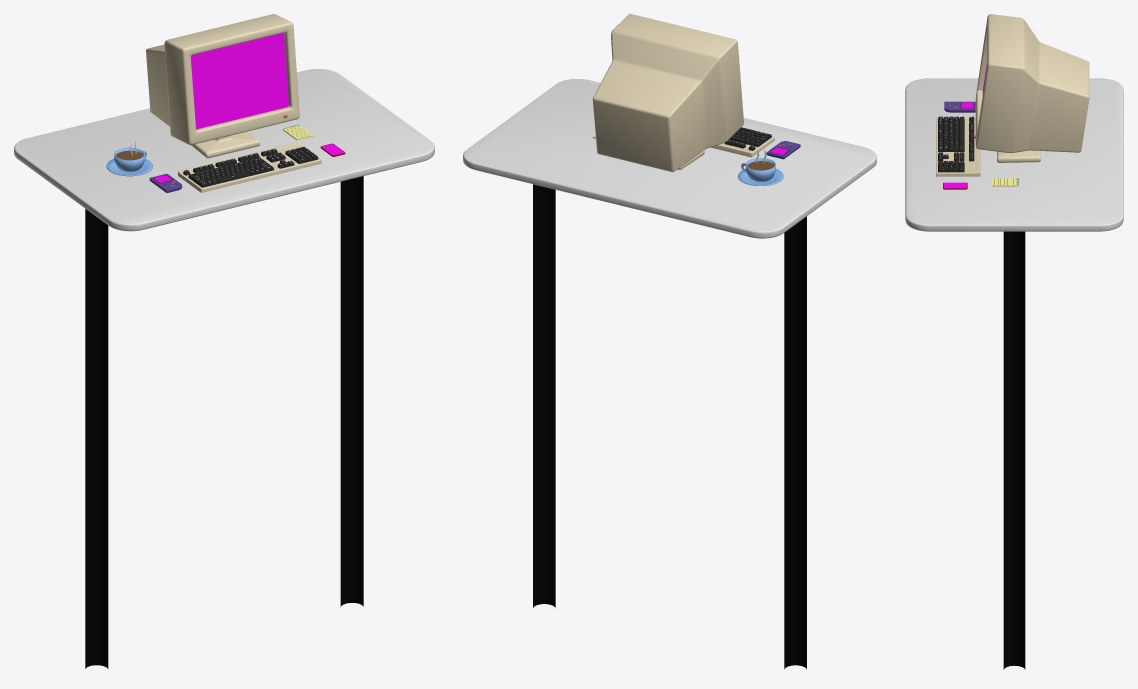
Rendered from Prototype.glb.
3 renders of one model, left to right at view 1: azimuth 30°, elevation 25°; view 2: azimuth 150°, elevation 25°; view 3: azimuth 270°, elevation 25°, orthographic. The views are drawn at different scales.
Parts seen in each view (by area): view 1: Table, Legs, Monitor, MonitorScreen, Keyboard, Coffee Cup; view 2: Table, Legs, Monitor, Coffee Cup; view 3: Table, Monitor, Legs, Keyboard.
Part boxes in pixels (left/top/right/bottom): Table: left=14, top=69, right=434, bottom=231; Legs: left=85, top=176, right=363, bottom=668; Monitor: left=146, top=14, right=299, bottom=158; MonitorScreen: left=191, top=33, right=288, bottom=129; Keyboard: left=178, top=142, right=321, bottom=192; Coffee Cup: left=106, top=147, right=152, bottom=176; Table: left=463, top=79, right=876, bottom=238; Legs: left=533, top=184, right=806, bottom=669; Monitor: left=592, top=14, right=743, bottom=172; Coffee Cup: left=738, top=158, right=783, bottom=185; Table: left=905, top=78, right=1123, bottom=231; Monitor: left=975, top=14, right=1089, bottom=162; Legs: left=1003, top=231, right=1025, bottom=669; Keyboard: left=936, top=118, right=980, bottom=176.
Size of the model in its own units: 1.6 by 2.9 by 1.
